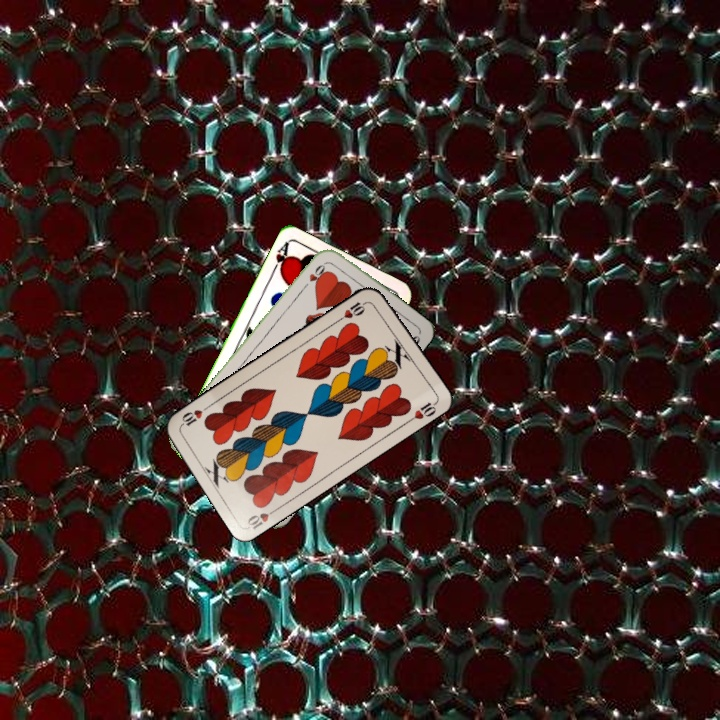H10: (243, 503, 281, 532), (335, 297, 371, 324)
HA: (267, 238, 292, 277)
HO: (298, 258, 329, 292)
